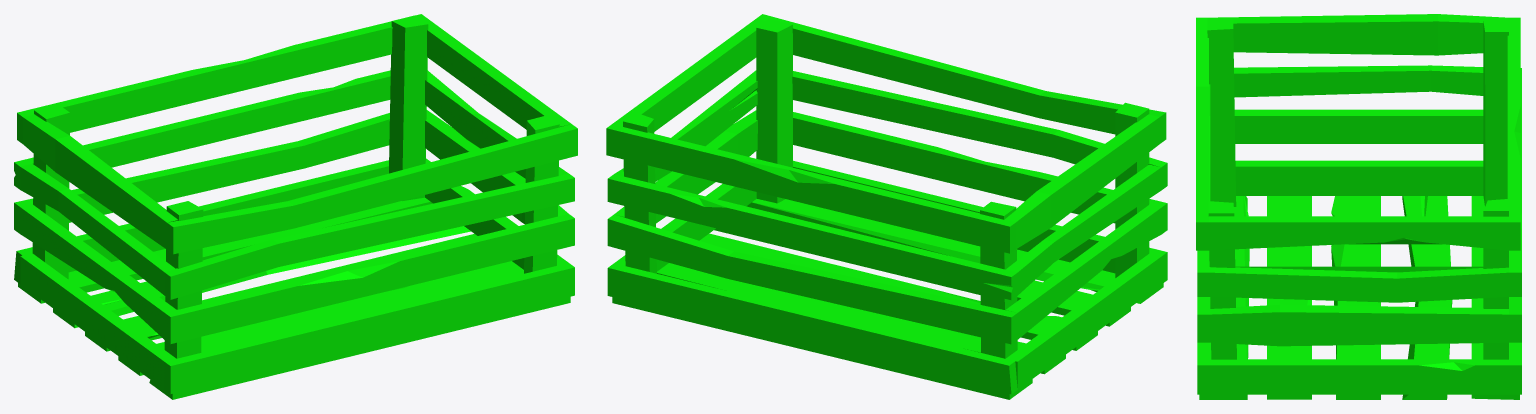
File: SM_Crate_Wood_A_Tall_Fantasy.fbx
The picture shows the model from 3 angles, left to right: view 1: azimuth 30°, elevation 25°; view 2: azimuth 150°, elevation 25°; view 3: azimuth 270°, elevation 25°; orthographic projection. The views are drawn at different scales.
Visible parts, largest first — view 1: crate-wood-a-tall-fantasy; view 2: crate-wood-a-tall-fantasy; view 3: crate-wood-a-tall-fantasy.
Boxes of the visible parts, left/top/right/bottom form: crate-wood-a-tall-fantasy: left=14, top=14, right=577, bottom=399; crate-wood-a-tall-fantasy: left=606, top=14, right=1167, bottom=399; crate-wood-a-tall-fantasy: left=1196, top=14, right=1521, bottom=399.
Bounding box in the file's own units: 0.6098 × 0.2573 × 0.4082.
